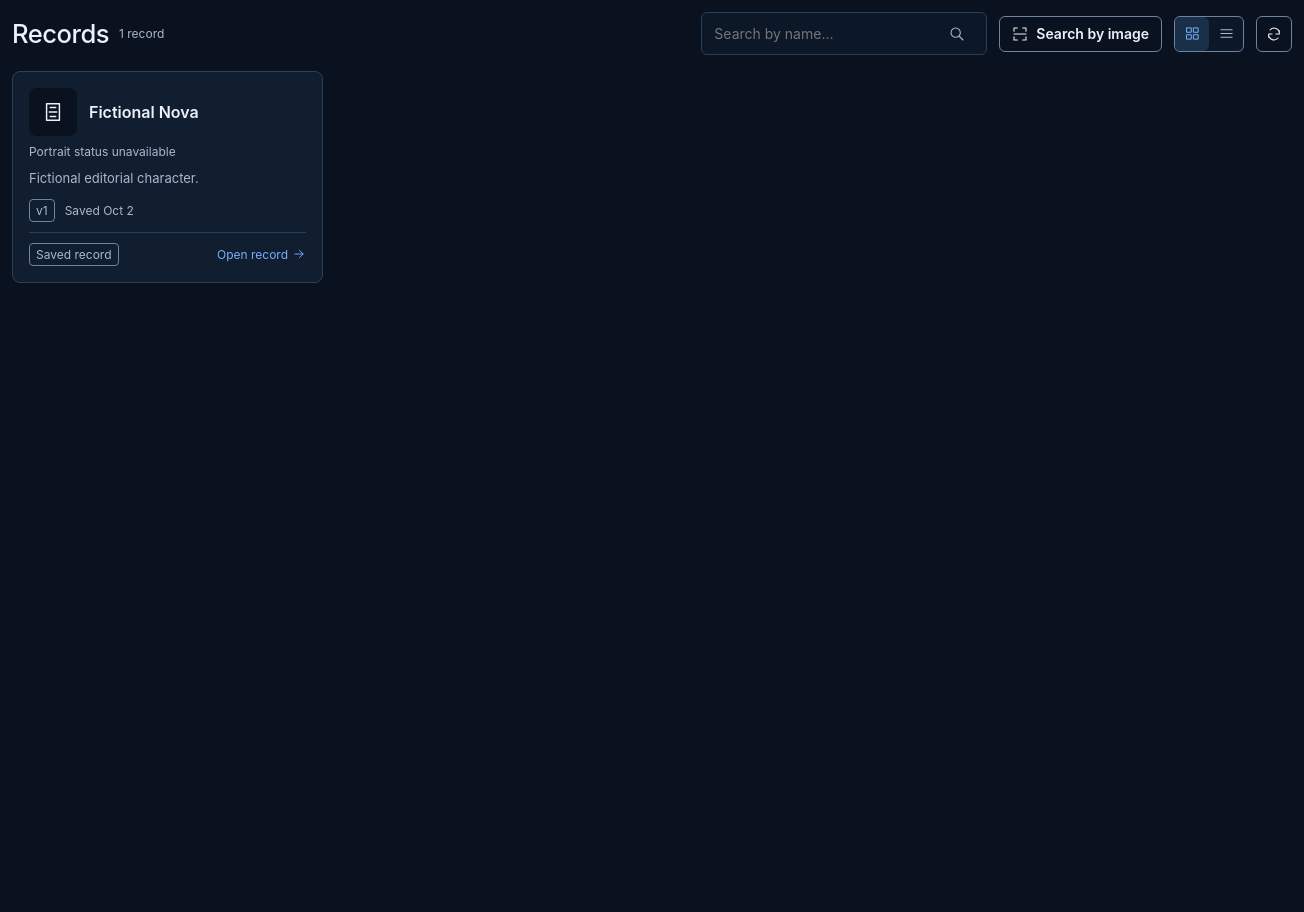
Test: rejects a cross-persona discovery response before rendering governance history
Click the button with aria-label "Open record" at (168,177), box [12, 71, 323, 283]
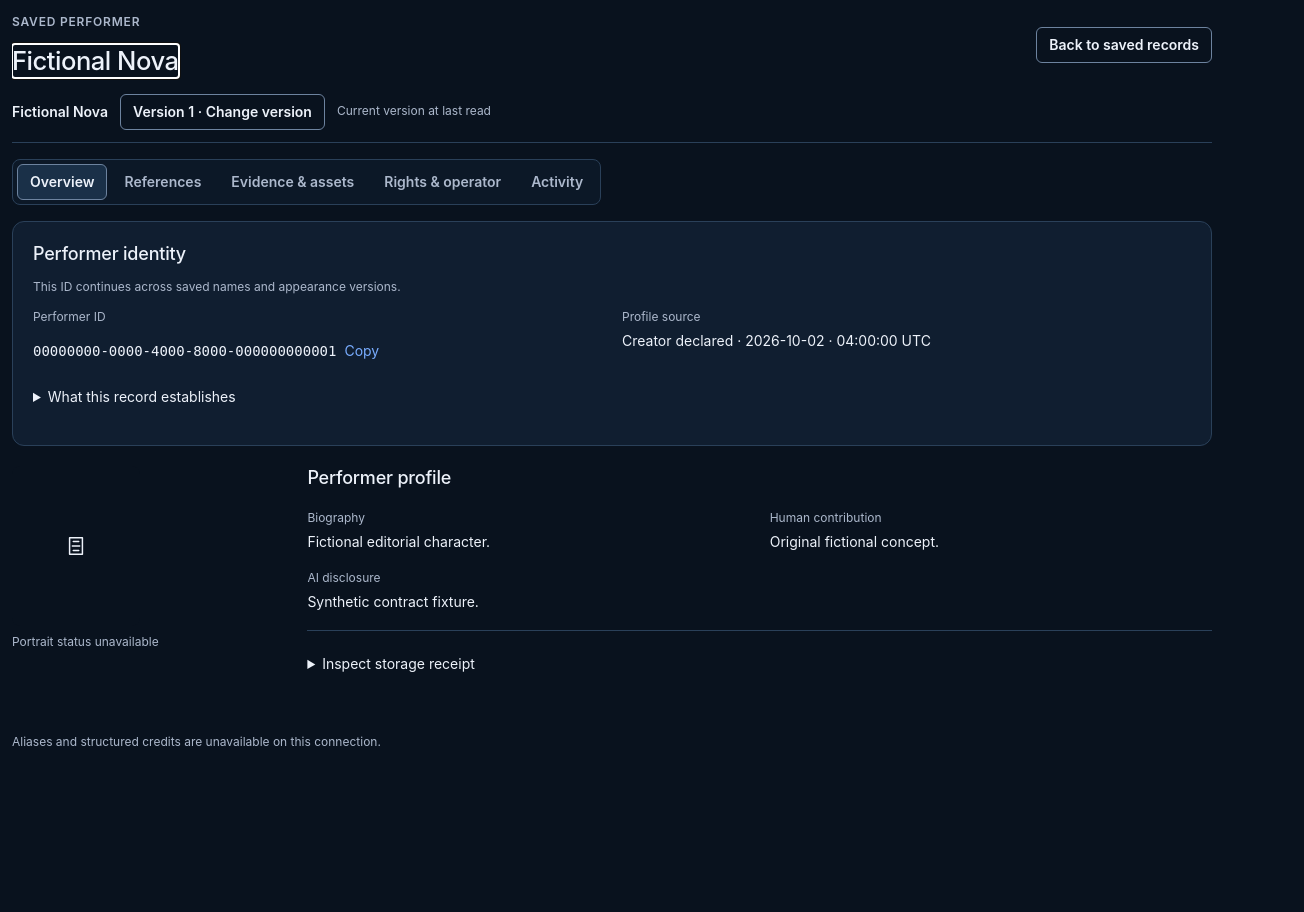
Click the button "Activity" at (557,182), box [518, 164, 596, 200]
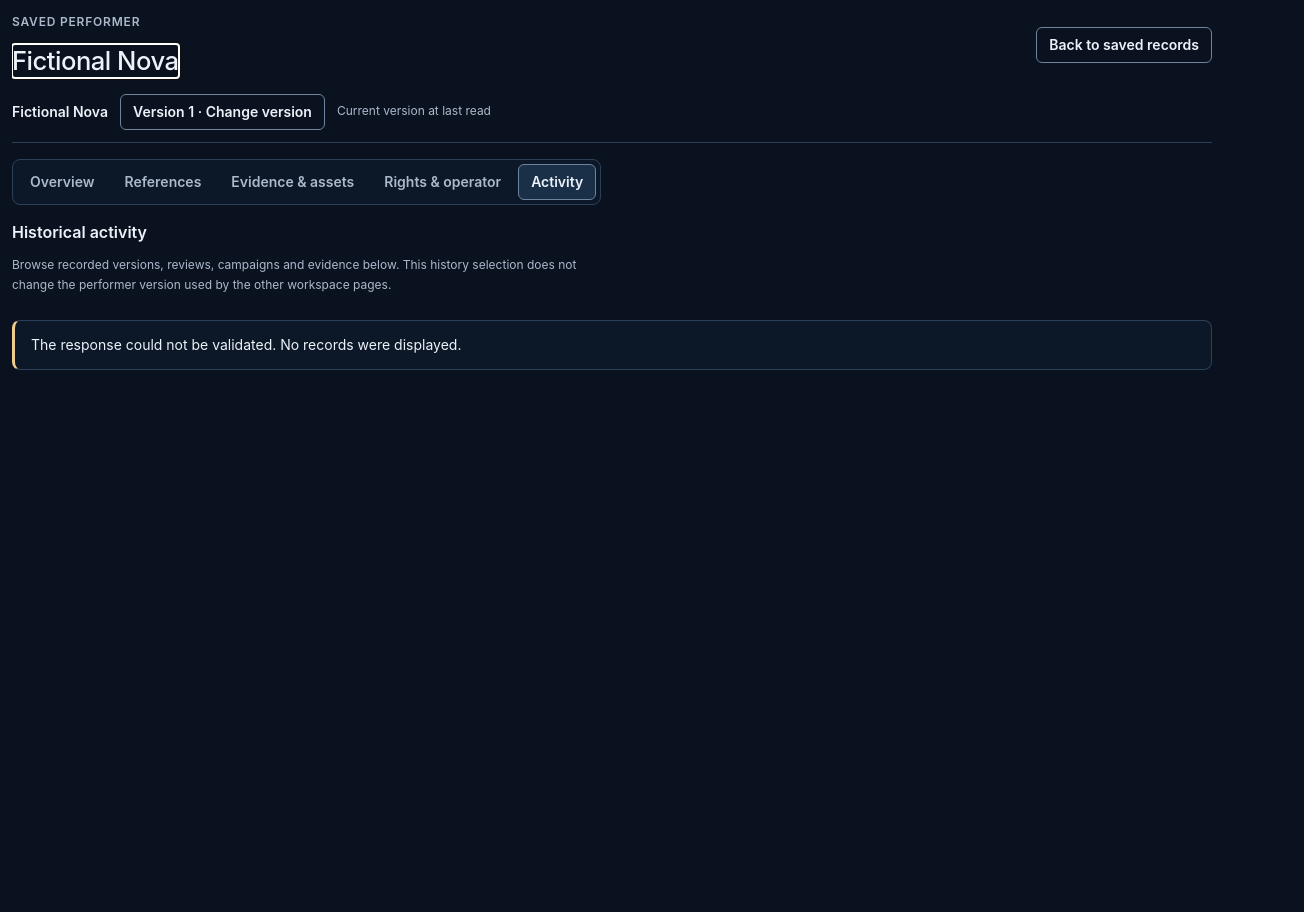
Now the message "The response could not be validated. No records were displayed." is shown, box [12, 320, 1212, 370]
